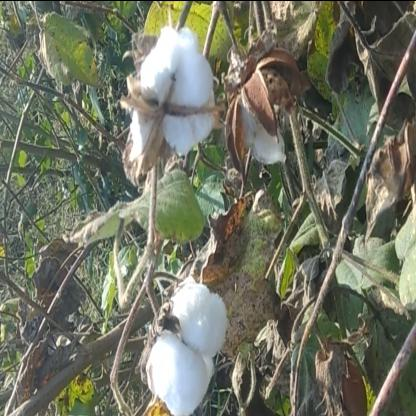cotton_ready: (116, 22, 230, 170), (134, 271, 238, 408)
